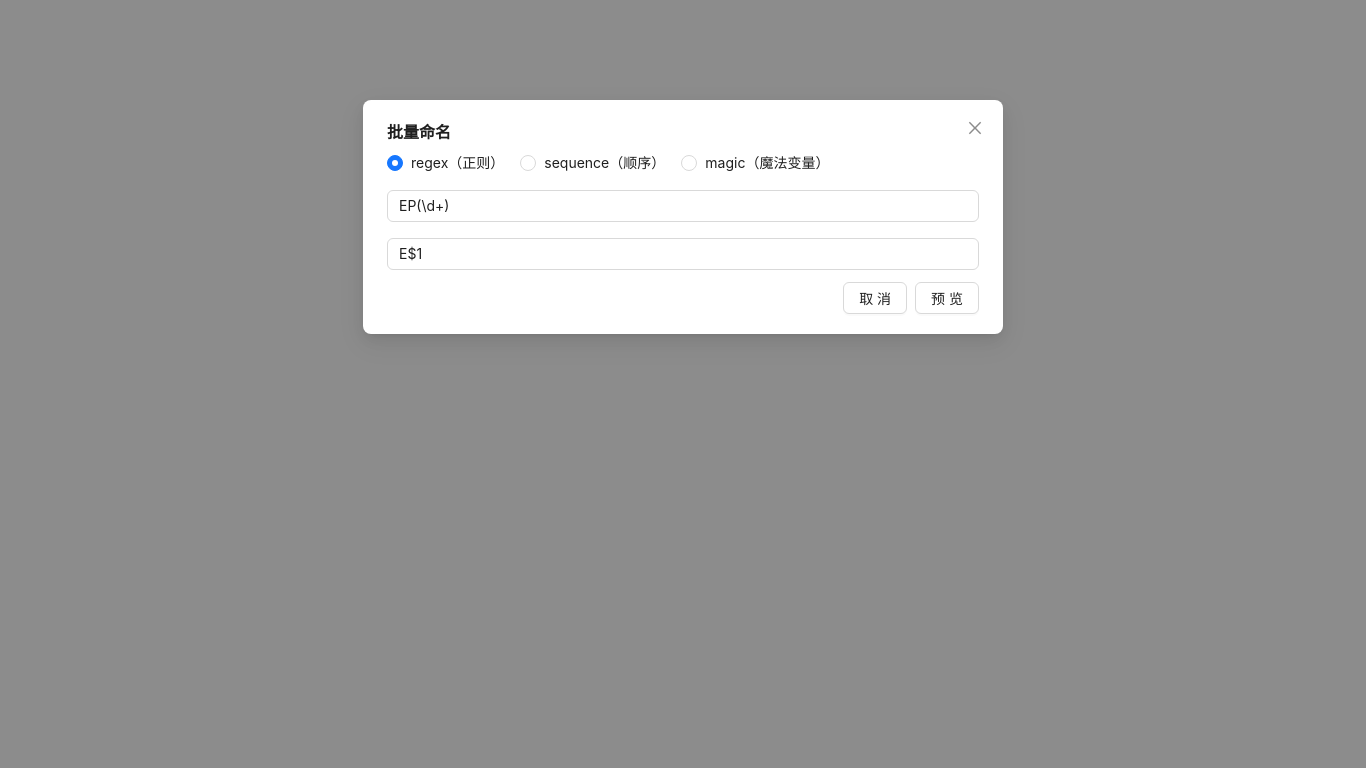
三种模式切换渲染对应字段
Check: the field with placeholder "匹配正则" is shown, box x1=387 y1=190 x2=979 y2=222
Check: the field with placeholder "替换内容" is shown, box x1=387 y1=238 x2=979 y2=270
Note: sequence（顺序）
Click the text "sequence（顺序）" at (605, 163), box x1=536 y1=152 x2=673 y2=174
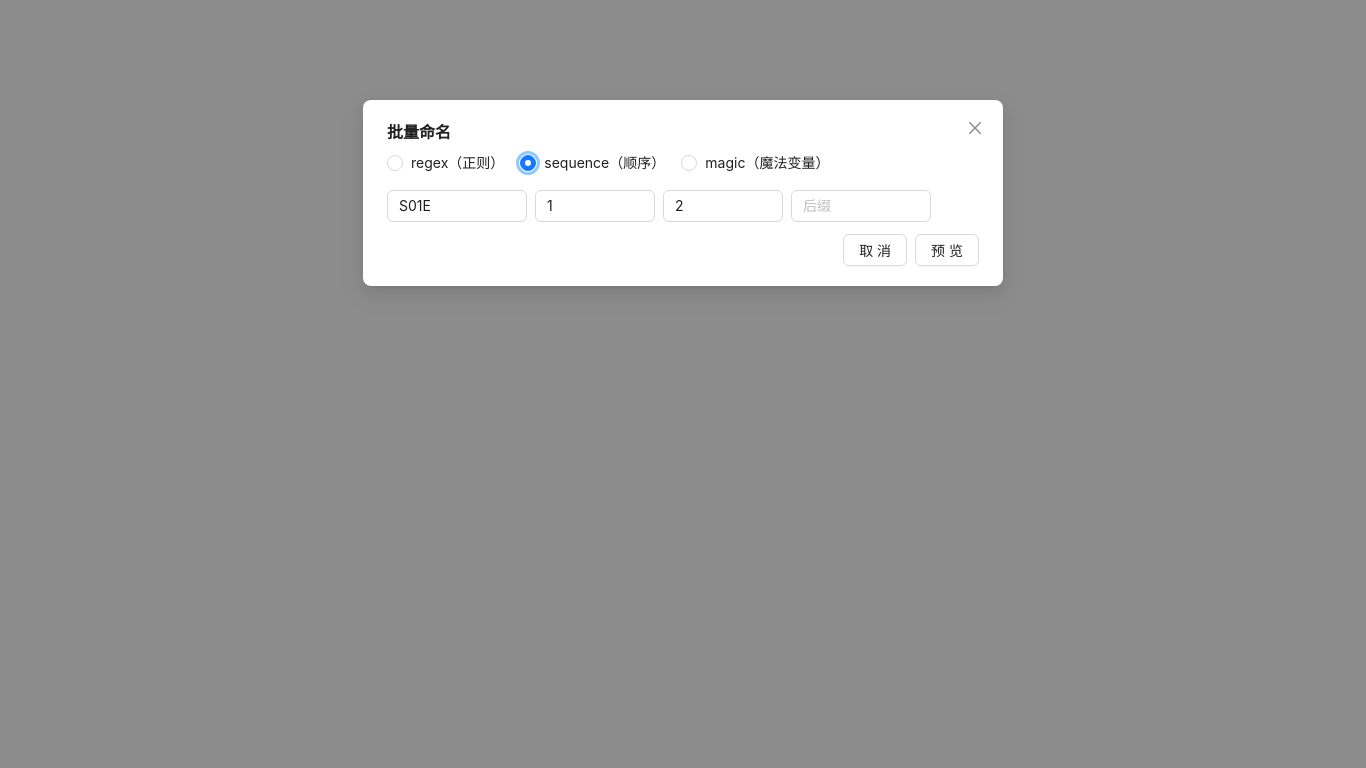
Check: the field with placeholder "前缀" is shown, box x1=387 y1=190 x2=527 y2=222
Check: the number field with placeholder "起始编号" is shown, box x1=536 y1=191 x2=654 y2=221
Check: the number field with placeholder "补位宽度" is shown, box x1=664 y1=191 x2=782 y2=221
Note: magic（魔法变量）
Click the text "magic（魔法变量）" at (767, 163), box x1=697 y1=152 x2=837 y2=174
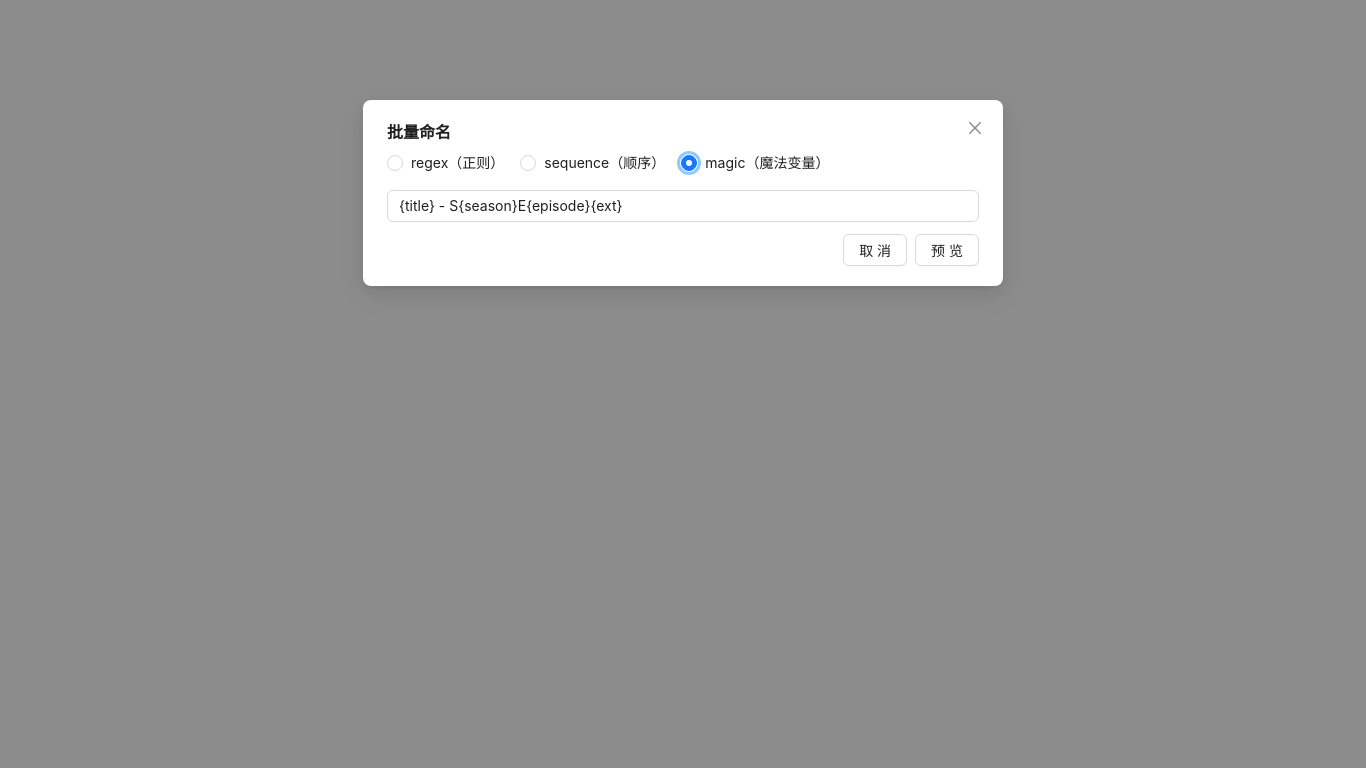
Check: the field with placeholder "模板（支持 {title} {season} {episode} {ext}）" is shown, box x1=387 y1=190 x2=979 y2=222
Check: the field with placeholder "前缀" is gone
